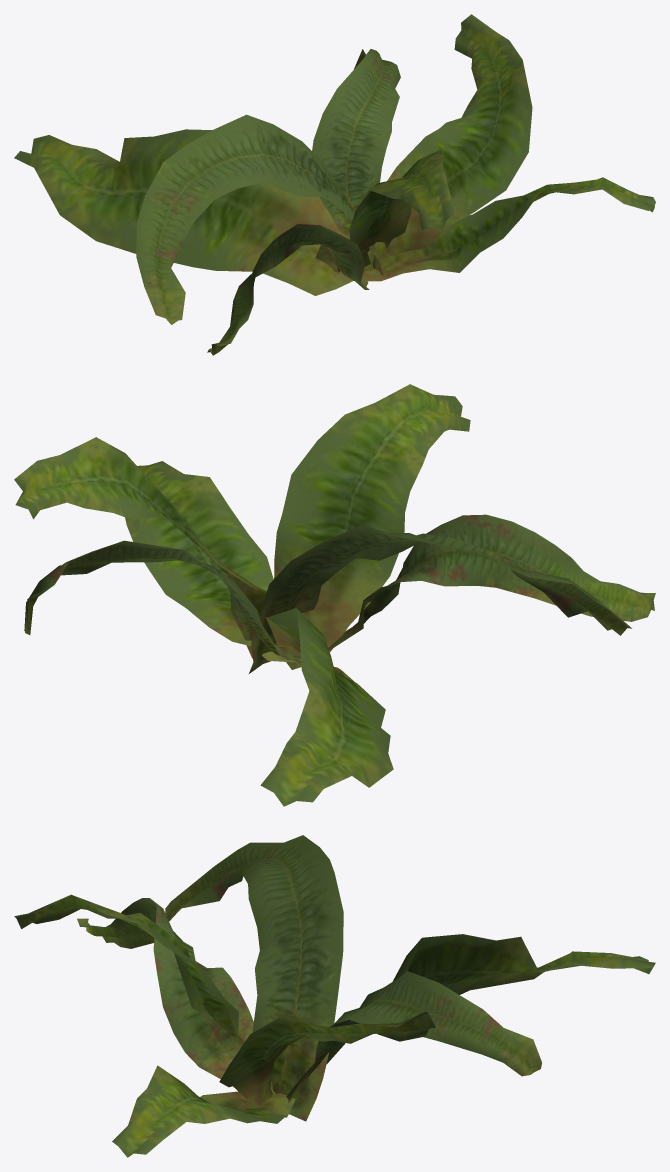
File: fern_02_d.glb
3 renders of one model, top to bottom at view 1: azimuth 30°, elevation 25°; view 2: azimuth 150°, elevation 25°; view 3: azimuth 270°, elevation 25°, orthographic. The views are drawn at different scales.
Parts seen in each view (by area): view 1: fern_02_d; view 2: fern_02_d; view 3: fern_02_d.
Boxes of the visible parts, bbox=[...] form: fern_02_d: bbox=[14, 14, 655, 355]; fern_02_d: bbox=[14, 384, 655, 806]; fern_02_d: bbox=[14, 835, 655, 1157].
Size of the model in its own units: 0.5728 by 0.2131 by 0.5933.
1 material, 1 textured.
